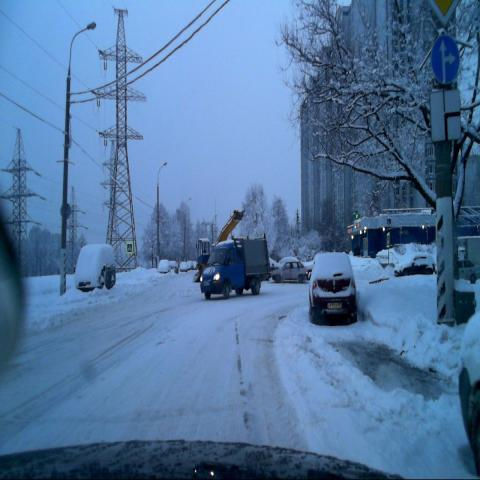8_13: (429, 91, 462, 143)
